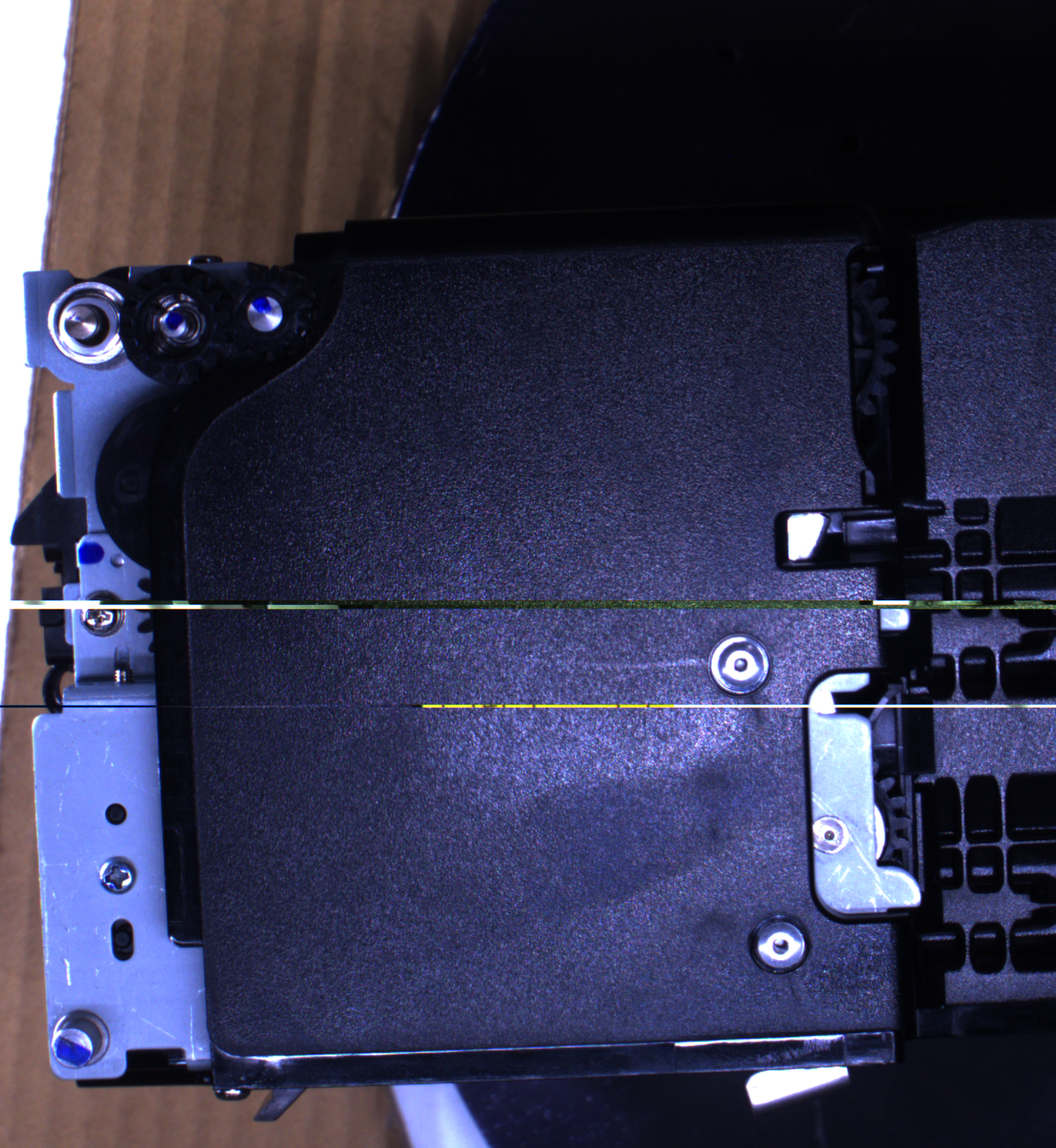centre_pin_presence: (742, 1047, 855, 1111)
centre_plate_presence: (805, 662, 932, 927)
centre_screw_presence: (705, 628, 777, 703), (743, 909, 818, 980)
gear1_absence: (45, 278, 135, 373)
gear2_presence: (119, 264, 232, 384)
gear3_presence: (212, 261, 317, 365)
side_screw_presence: (73, 582, 133, 641), (95, 848, 143, 899)
slanting_pin_presence: (45, 1004, 118, 1077)
